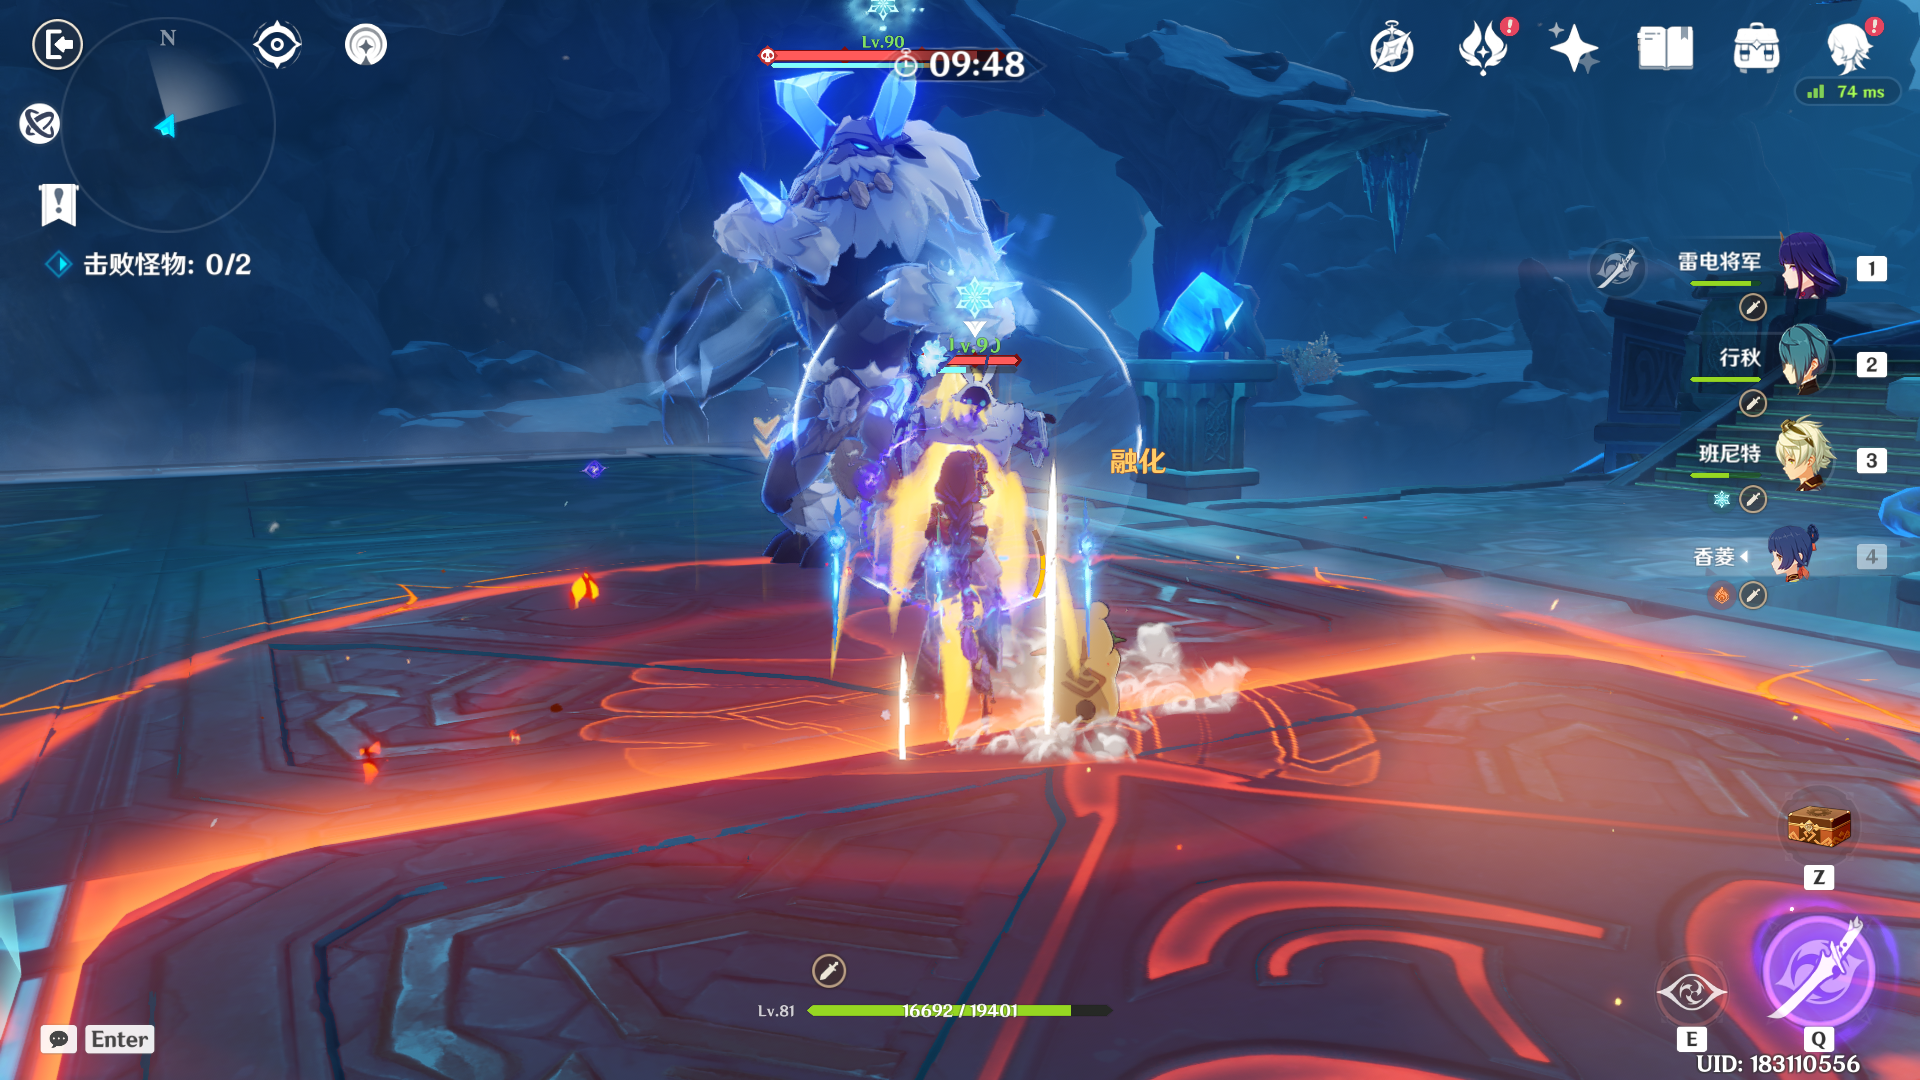bosshili: (630, 45, 1065, 628)
caster: (884, 352, 1076, 584)
character: (880, 421, 1054, 794)
